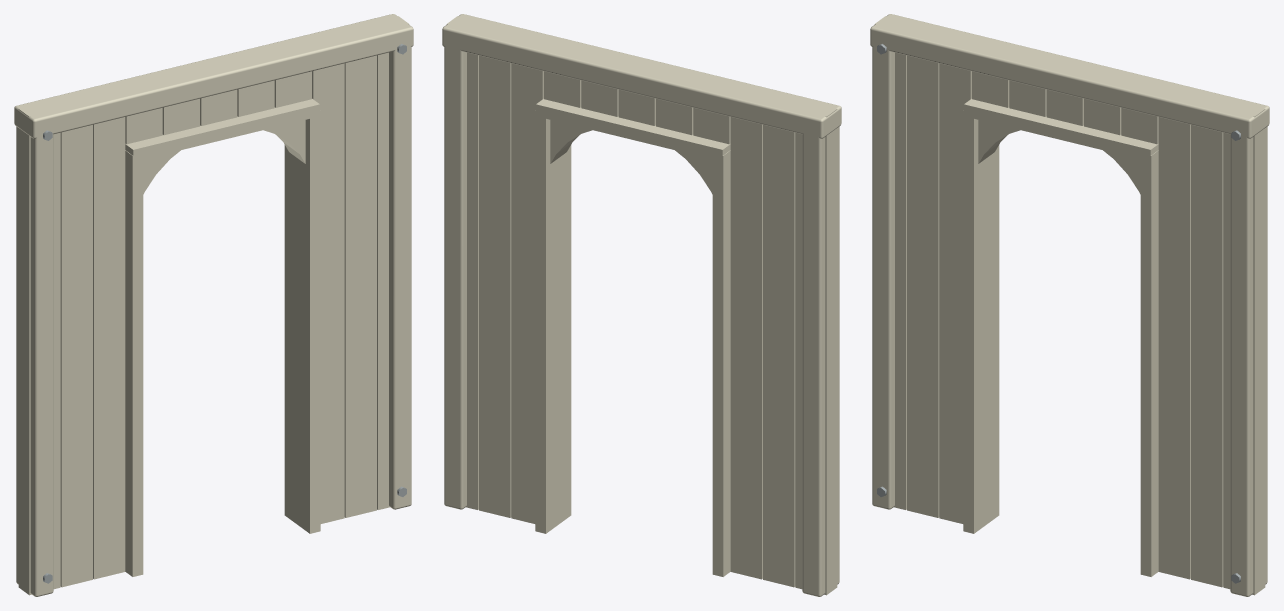
The model's file is suburban-outbreak-interiors-room-wide-arch-458d695e__19868.glb.
The picture shows the model from 3 angles, left to right: view 1: azimuth 30°, elevation 25°; view 2: azimuth 150°, elevation 25°; view 3: azimuth 330°, elevation 25°; orthographic projection.
Parts seen in each view (by area): view 1: room-wide-arch; view 2: room-wide-arch; view 3: room-wide-arch.
Boxes of the visible parts, x1=… form: room-wide-arch: x1=14, y1=14, x2=413, y2=596; room-wide-arch: x1=442, y1=14, x2=841, y2=596; room-wide-arch: x1=870, y1=14, x2=1269, y2=596.
Size of the model in its own units: 2 by 2.4 by 0.23.
